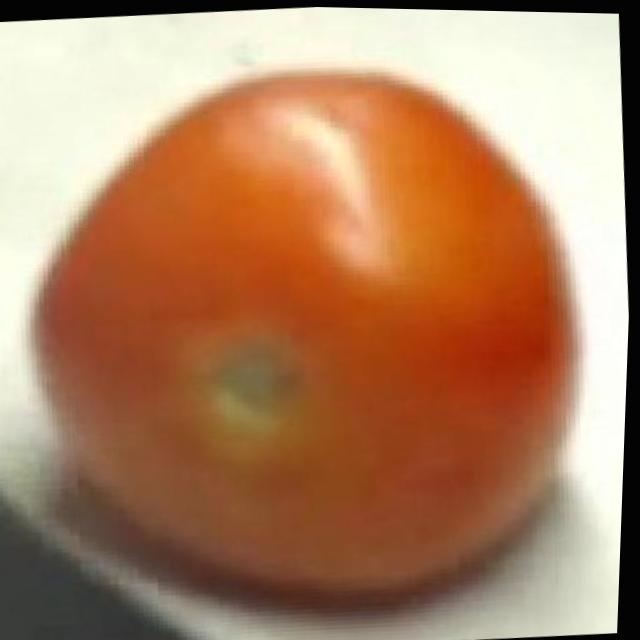tomato: (20, 46, 612, 625)
